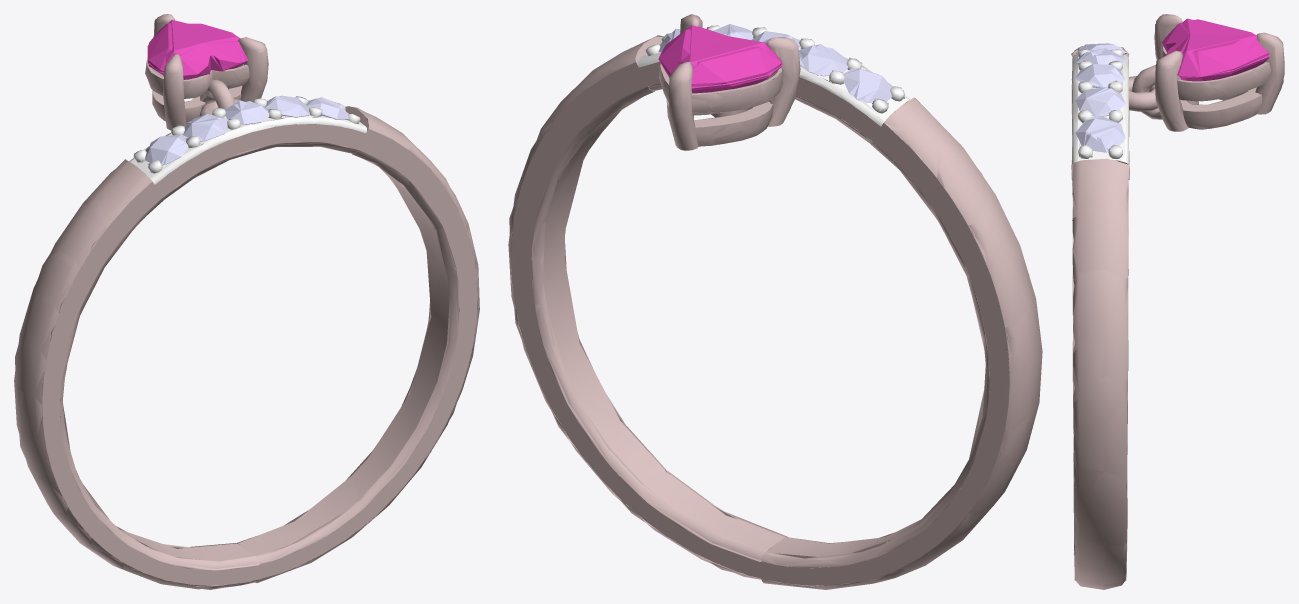
File: DLR-D000733353.glb
The picture shows the model from 3 angles, left to right: view 1: azimuth 30°, elevation 25°; view 2: azimuth 150°, elevation 25°; view 3: azimuth 270°, elevation 25°; orthographic projection. The views are drawn at different scales.
Visible parts, largest first — view 1: highPolyMesh, lowPolyMesh; view 2: highPolyMesh, lowPolyMesh; view 3: highPolyMesh, lowPolyMesh.
Part boxes in pixels (<box>): highPolyMesh: <box>14,14,479,589</box>; lowPolyMesh: <box>15,14,479,589</box>; highPolyMesh: <box>508,14,1042,589</box>; lowPolyMesh: <box>509,14,1040,589</box>; highPolyMesh: <box>1072,14,1284,587</box>; lowPolyMesh: <box>1071,14,1284,589</box>.
Bounding box in the file's own units: 0.0192 × 0.0206 × 0.00751.
